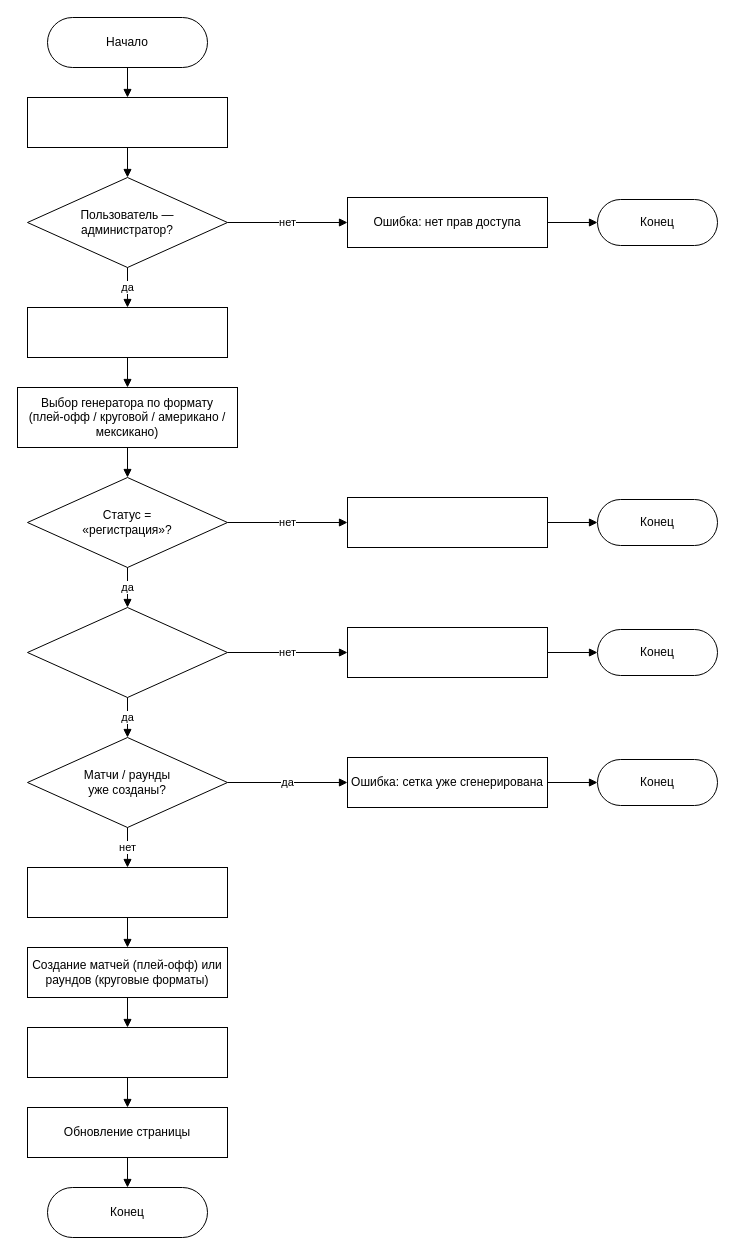
Some shapes in this 735 by 1255 pixel diagram are drawn without their labels. The centre of each missing label's shape, as x and y in pixels:
Администратор нажимает «Старт»: (127,122)
Жеребьёвка (алгоритм Фишера–Йетса), назначение посева 1..N: (127,892)
Ошибка: неверное число участников: (447,652)
Ошибка: турнир не в регистрации: (447,522)
Перевод статуса: регистрация → «идёт»: (127,1052)
Число участников корректно?: (127,652)
Чтение формата турнира из БД: (127,332)
